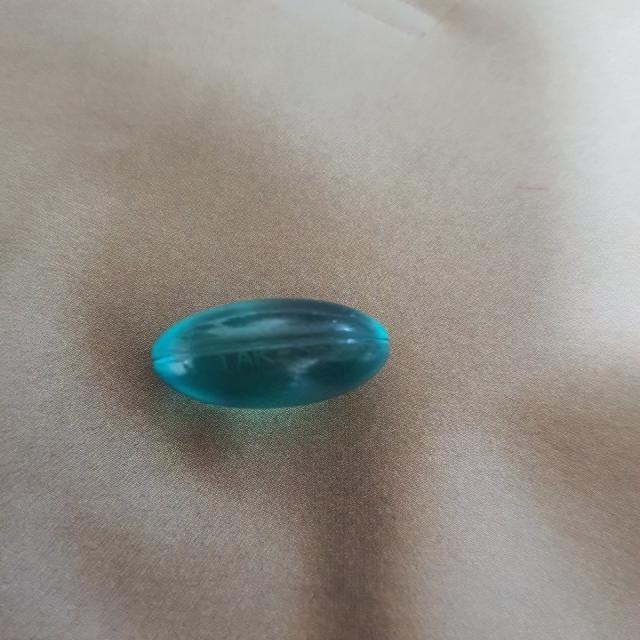pill: (149, 296, 388, 411)
